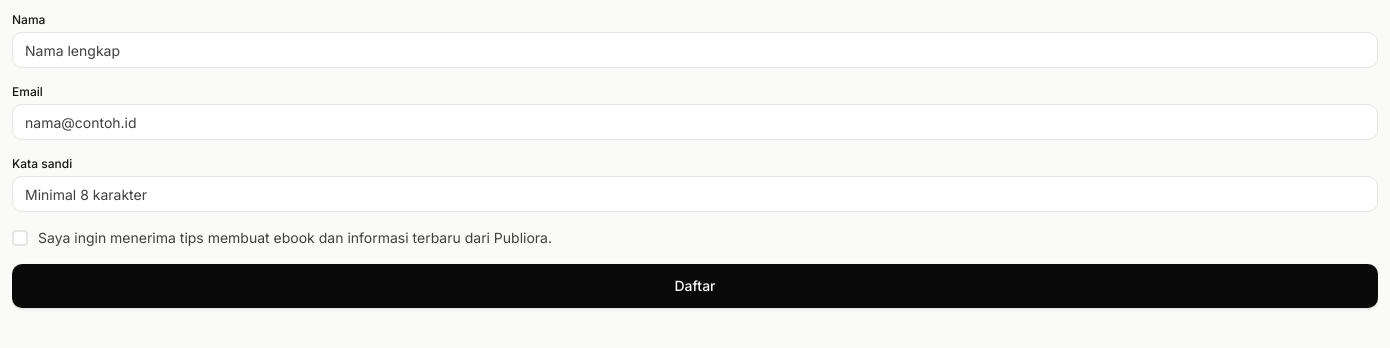
RegisterForm › rejects disposable email at form validation level
The image size is (1390, 348).
Type "Spam Bot" into the field labelled "Nama". click: [695, 50]
box: [12, 32, 1378, 68]
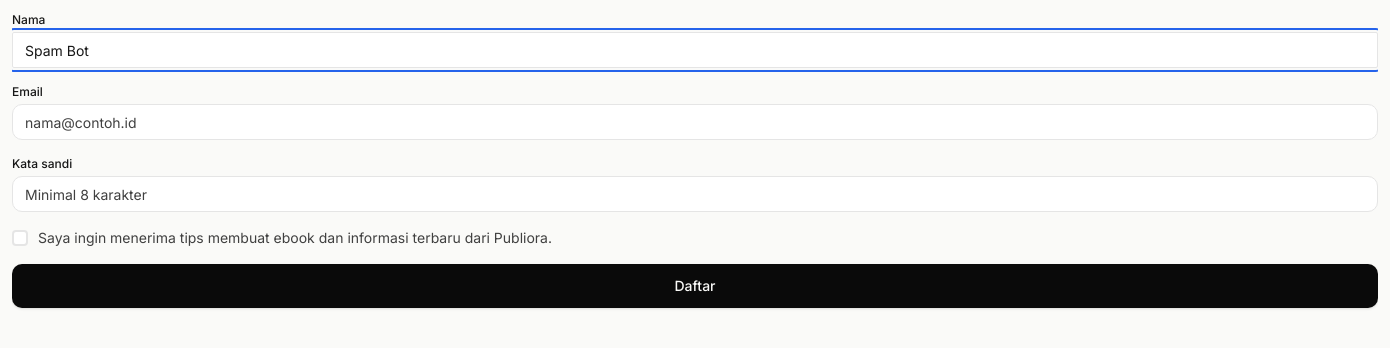
Type "spambot@10minutemail.com" into the field labelled "Email". click: [695, 122]
box: [12, 104, 1378, 140]
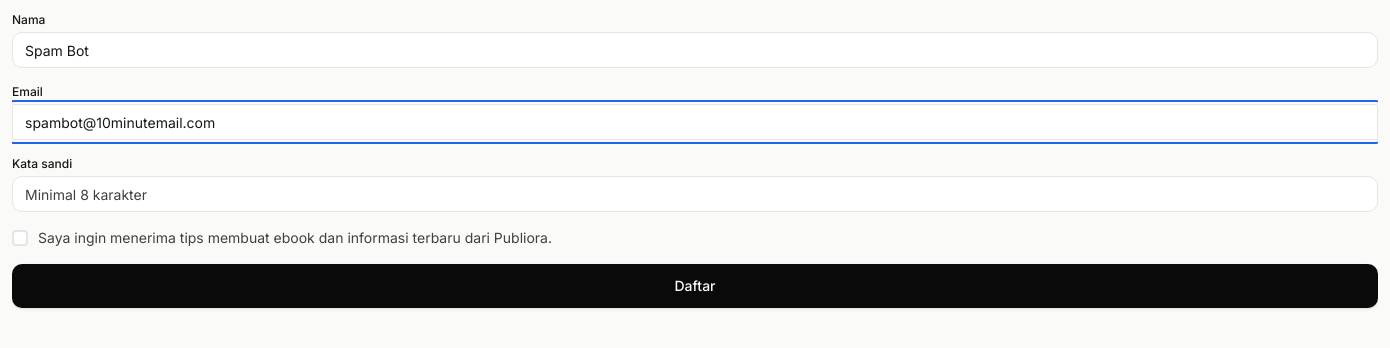
Type "rahasia123" into the password field labelled "Kata sandi". click: [695, 194]
box: [12, 176, 1378, 212]
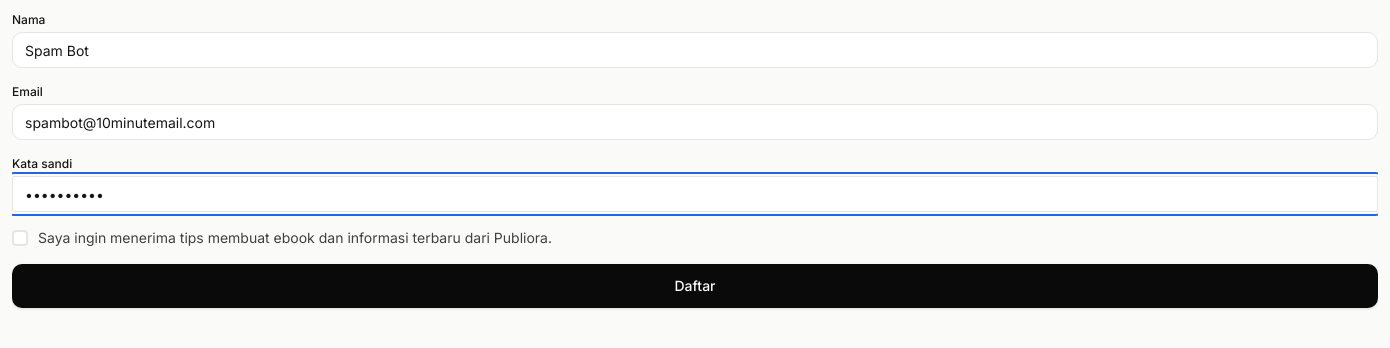
Click the button "Daftar". click: [695, 286]
box: [12, 264, 1378, 308]
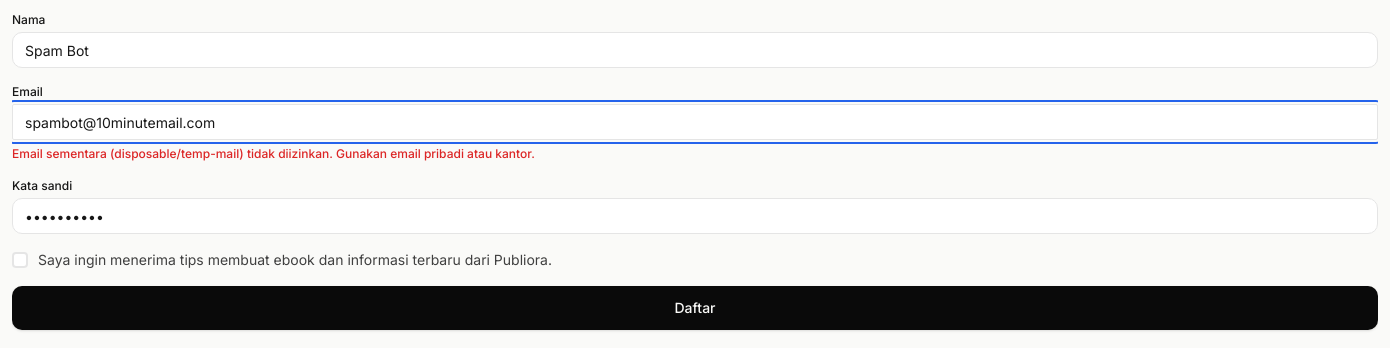
Now the text "Email sementara" is shown, box [12, 146, 535, 161]
